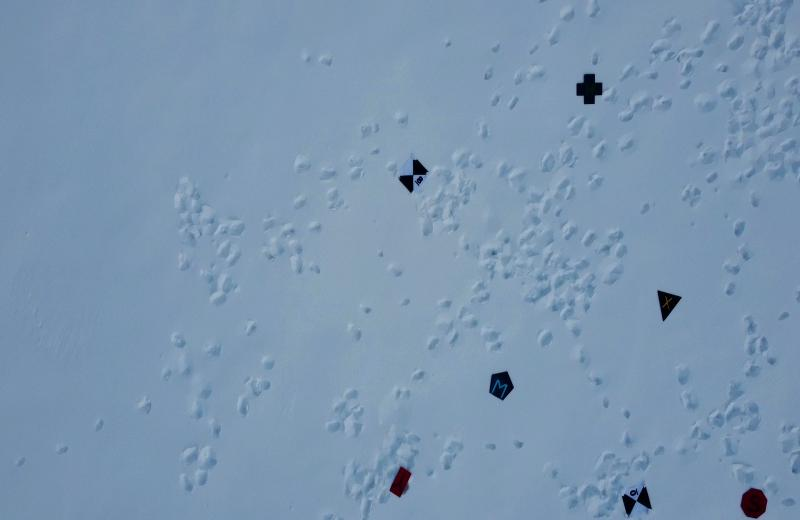Cross: (575, 71, 606, 106)
Octagon: (738, 483, 769, 519)
Pentagon: (487, 370, 520, 405)
Rectangle: (387, 461, 419, 499)
Triangle: (652, 281, 687, 323)
